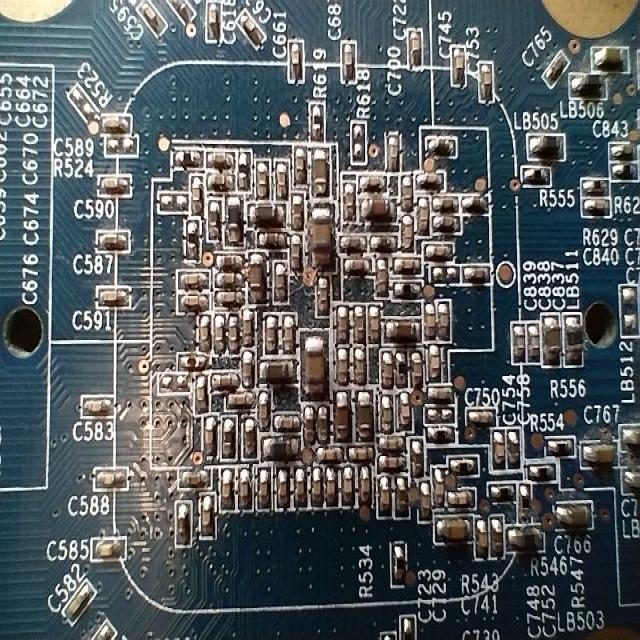capacitor: (291, 330, 337, 408), (310, 198, 341, 276), (53, 584, 96, 640), (274, 31, 312, 81), (90, 282, 130, 324), (88, 461, 134, 495), (304, 143, 332, 194), (563, 503, 596, 537), (539, 319, 564, 363), (355, 384, 377, 434), (97, 170, 136, 198), (239, 12, 267, 49), (406, 24, 426, 74), (363, 200, 400, 227), (74, 391, 112, 417), (445, 44, 465, 93), (99, 225, 134, 252), (270, 250, 294, 289), (267, 154, 289, 196), (183, 319, 213, 349), (87, 538, 119, 566), (251, 154, 272, 196), (235, 471, 257, 511), (270, 455, 286, 510), (208, 175, 246, 198), (250, 468, 273, 506), (480, 51, 494, 112), (412, 194, 431, 237), (490, 431, 517, 461), (280, 312, 300, 352), (271, 411, 298, 440), (390, 319, 423, 342), (426, 244, 460, 266), (98, 110, 137, 129), (218, 266, 250, 289), (442, 518, 474, 540), (337, 46, 359, 78), (254, 386, 269, 432), (211, 286, 241, 308), (376, 398, 393, 436), (401, 212, 417, 252), (334, 464, 355, 494), (379, 124, 397, 158), (373, 262, 390, 298), (513, 319, 529, 357), (211, 316, 228, 351), (263, 316, 281, 349), (334, 351, 353, 382), (189, 179, 204, 217), (366, 308, 384, 339), (374, 348, 391, 380), (361, 455, 373, 499), (294, 472, 314, 496), (313, 467, 326, 501), (224, 349, 262, 354)
resistor: (388, 544, 413, 587), (512, 162, 556, 186), (581, 178, 609, 194), (613, 162, 640, 172)
